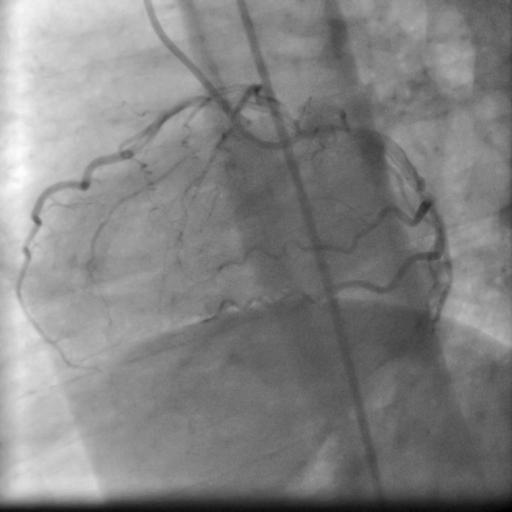Stenosis: (414, 186, 435, 201)
